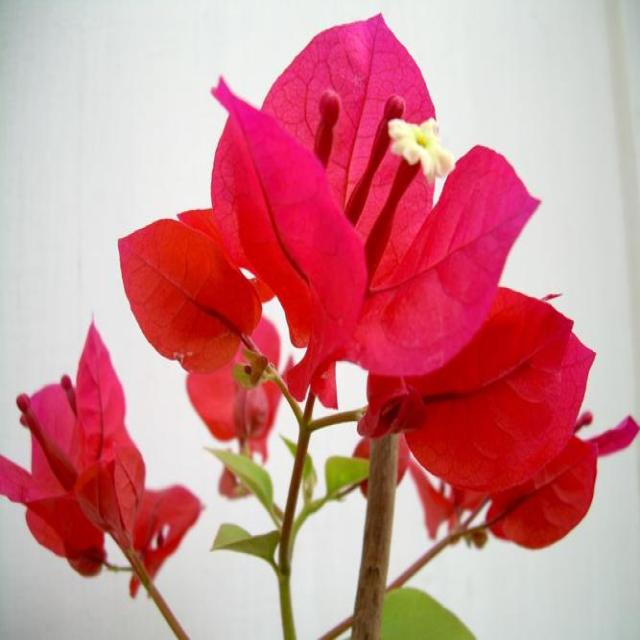bougainvillea: (31, 13, 620, 629)
